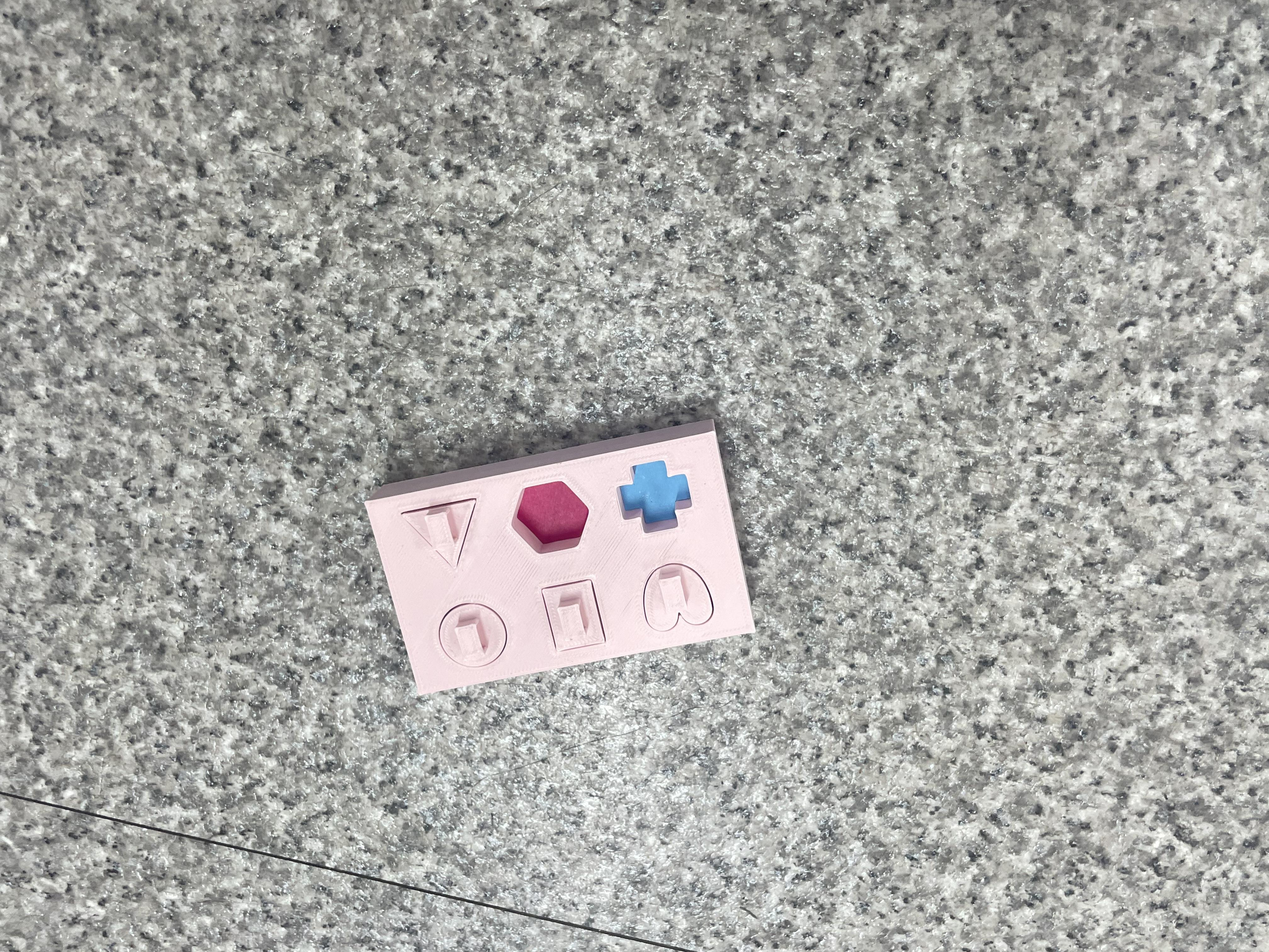unsolved: (364, 406, 761, 700)
